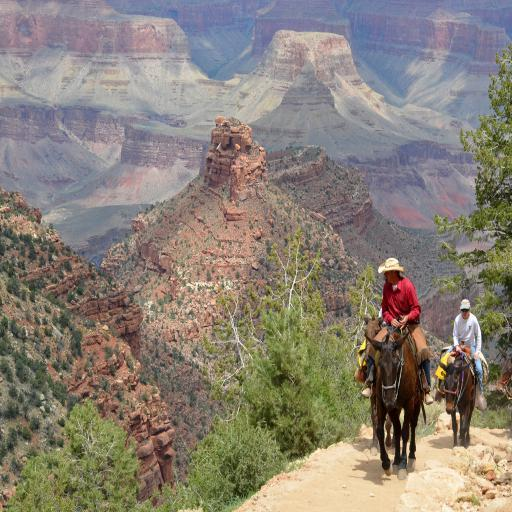Horse: (364, 330, 426, 481), (360, 312, 396, 459), (436, 351, 479, 450)
